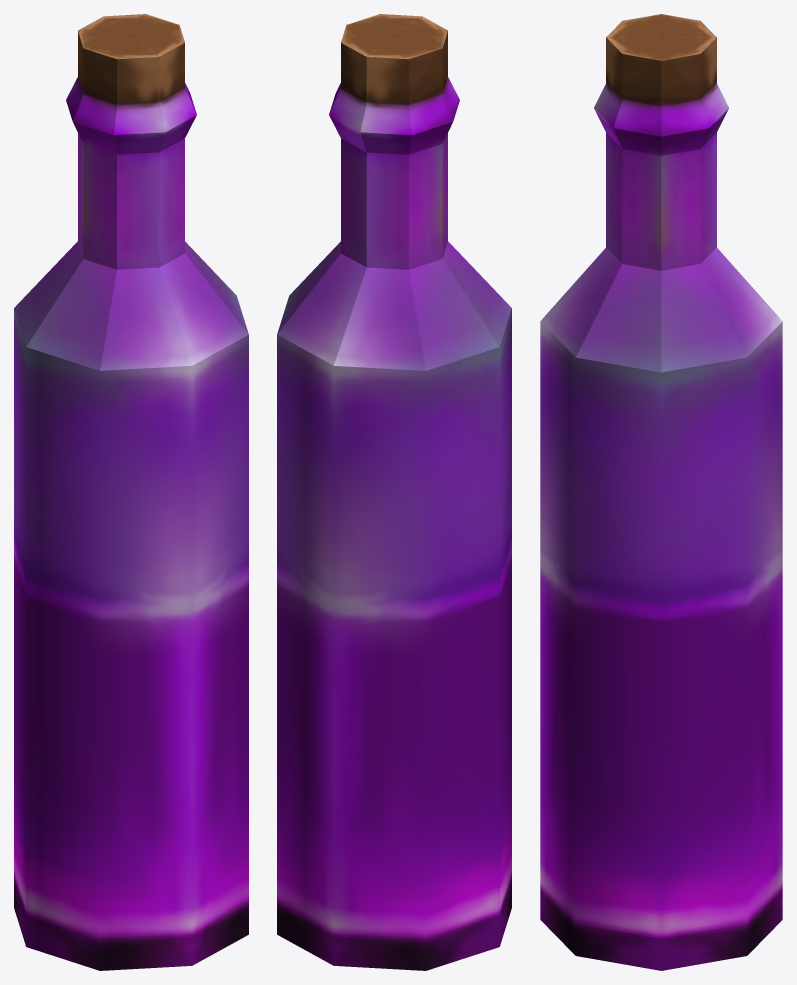
The model's file is JiuPing07.FBX.
3 renders of one model, left to right at view 1: azimuth 30°, elevation 25°; view 2: azimuth 150°, elevation 25°; view 3: azimuth 270°, elevation 25°, orthographic.
Parts seen in each view (by area): view 1: JiuPing07; view 2: JiuPing07; view 3: JiuPing07.
Part boxes in pixels (x1,y1,x2,y2): JiuPing07: (14, 14, 248, 970); JiuPing07: (277, 14, 511, 970); JiuPing07: (540, 14, 782, 970).
Size of the model in its own units: 14.45 by 58.01 by 14.45.
